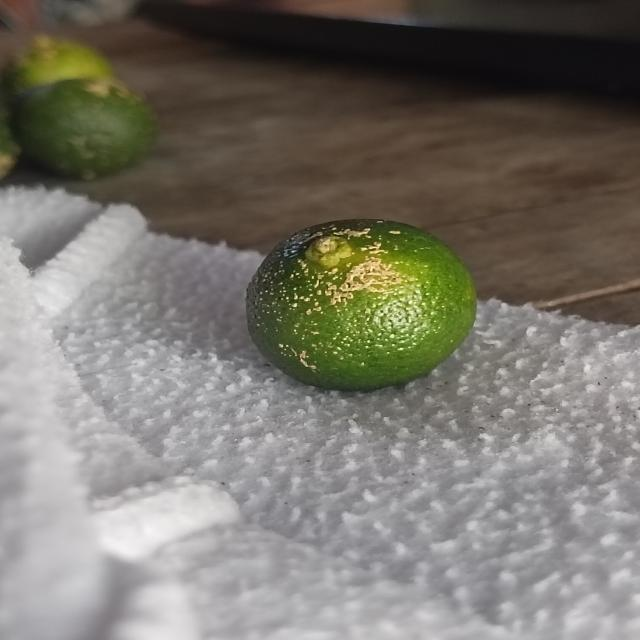scab: (245, 217, 480, 395)
